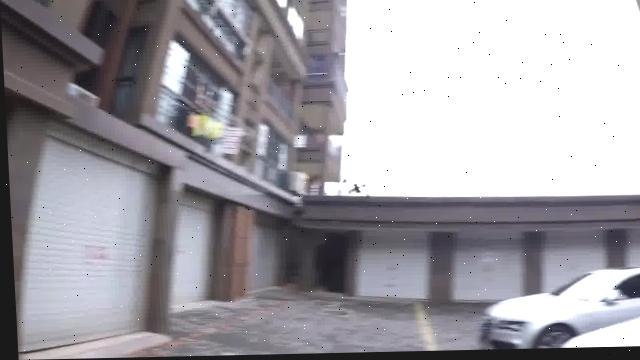drone: (333, 176, 380, 202)
